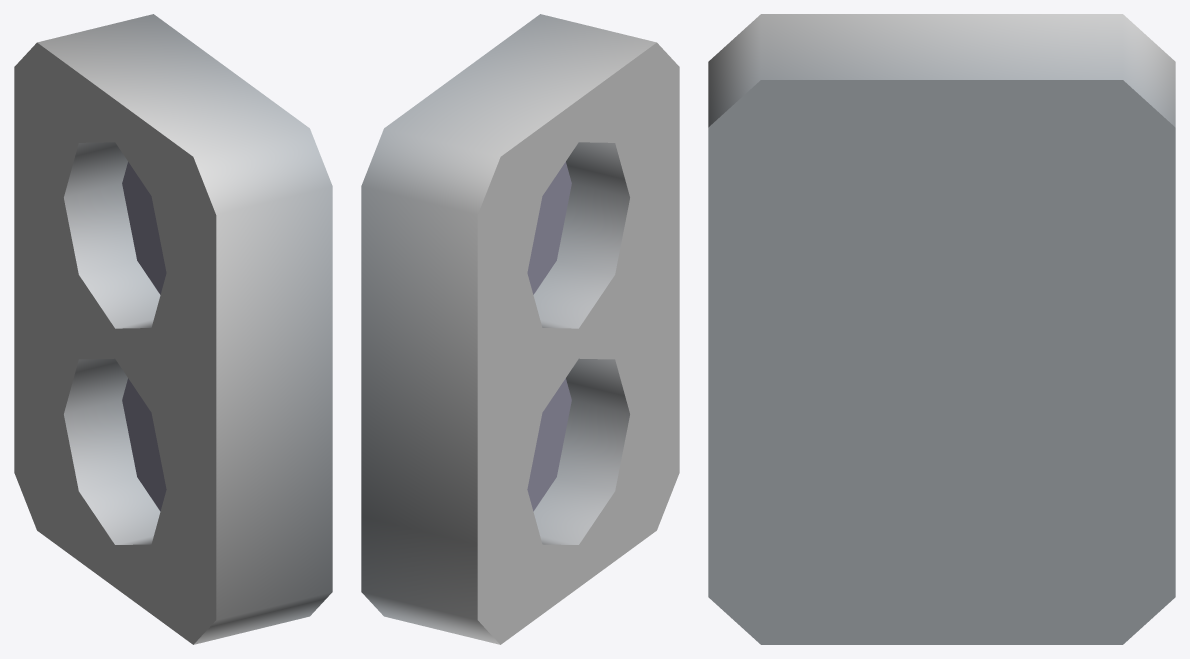
File: switch-outlet (%wall).glb
The picture shows the model from 3 angles, left to right: view 1: azimuth 30°, elevation 25°; view 2: azimuth 150°, elevation 25°; view 3: azimuth 270°, elevation 25°; orthographic projection. The views are drawn at different scales.
Parts seen in each view (by area): view 1: switch-outlet (%wall); view 2: switch-outlet (%wall); view 3: switch-outlet (%wall).
Part boxes in pixels (bbox=[...]): switch-outlet (%wall): bbox=[14, 14, 332, 644]; switch-outlet (%wall): bbox=[361, 14, 679, 644]; switch-outlet (%wall): bbox=[708, 14, 1175, 644].
Bounding box in the file's own units: 0.05 × 0.2 × 0.15.
